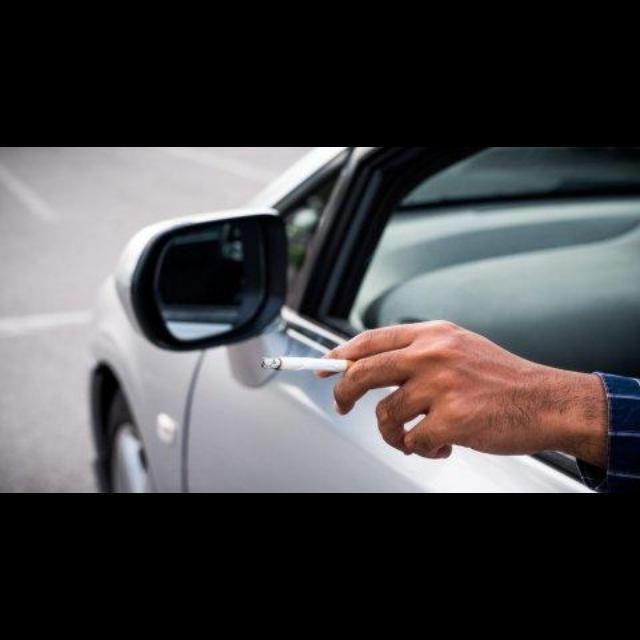rokok: (257, 354, 357, 376)
